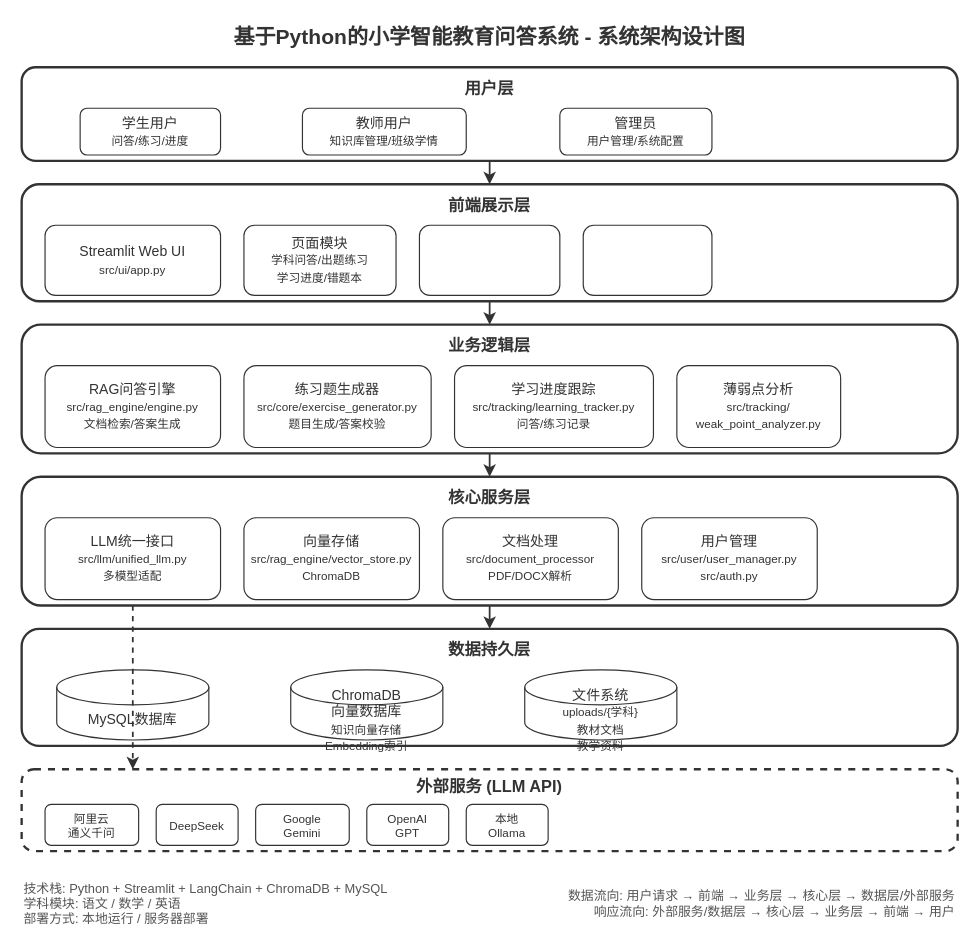
The diagram is 978 pixels wide and 952 high, and some of its shapes have lost their labels. Here are the shapes that lost their labels. From the top down, the box of each, then its label:
(418, 224, 560, 295): 管理页面 知识库管理 用户管理
(582, 224, 712, 295): 认证模块 登录验证 权限控制
